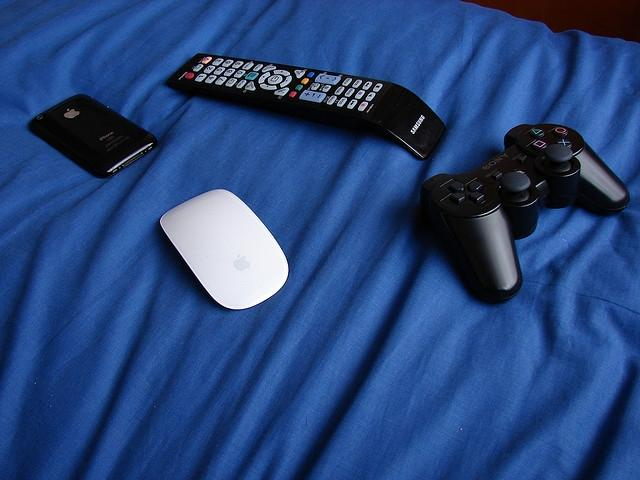apple: (233, 253, 250, 272), (64, 108, 80, 118)
